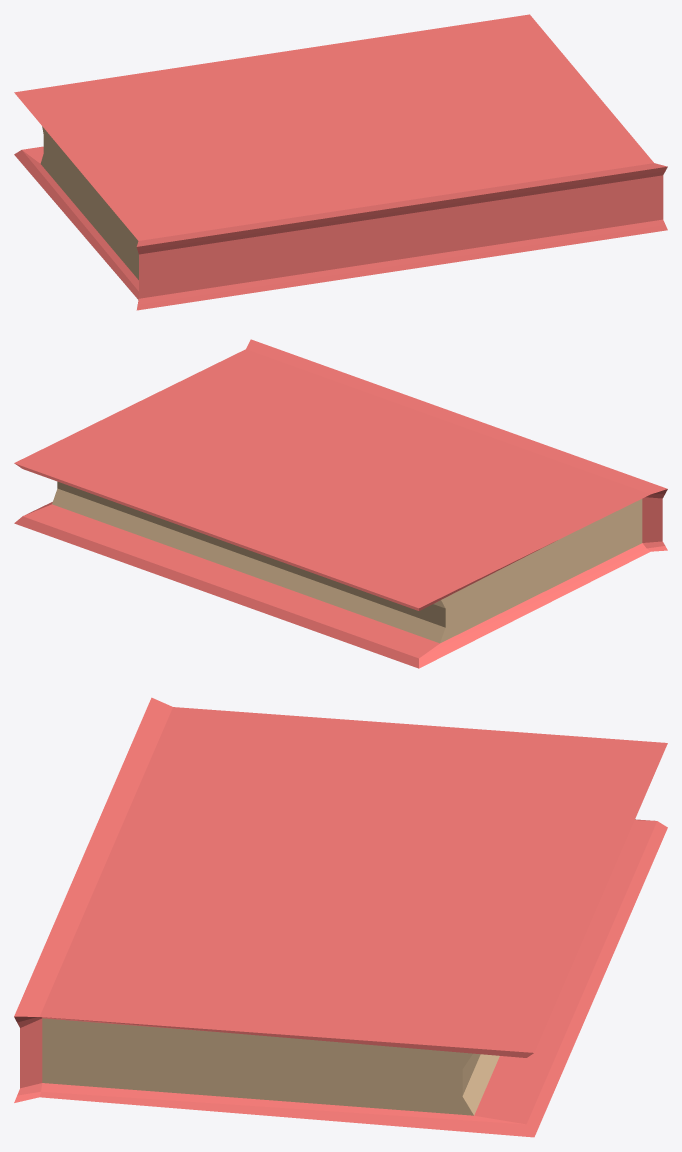
File: book.fbx
3 renders of one model, top to bottom at view 1: azimuth 30°, elevation 25°; view 2: azimuth 150°, elevation 25°; view 3: azimuth 270°, elevation 25°, orthographic. The views are drawn at different scales.
Visible parts, largest first — view 1: Book.001; view 2: Book.001; view 3: Book.001.
Part boxes in pixels (left/top/right/bottom): Book.001: left=14, top=14, right=667, bottom=310; Book.001: left=14, top=339, right=667, bottom=668; Book.001: left=14, top=697, right=667, bottom=1137.
Size of the model in its own units: 22.95 by 2.61 by 17.9.
